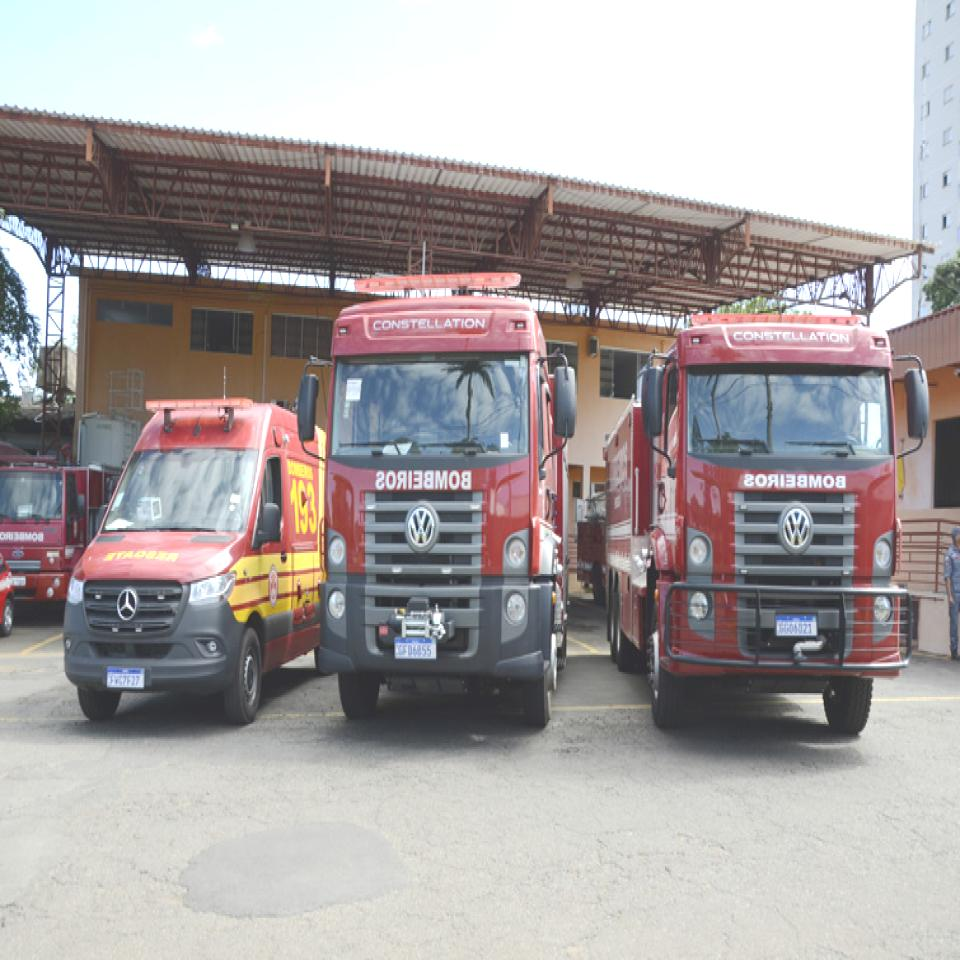bombeiro: (602, 312, 931, 737), (296, 270, 578, 732), (63, 397, 326, 726), (0, 452, 129, 622)
